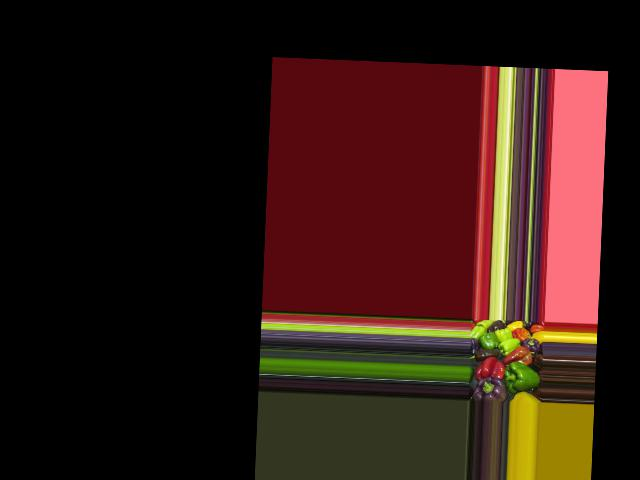bell_pepper: (521, 335, 542, 353)
